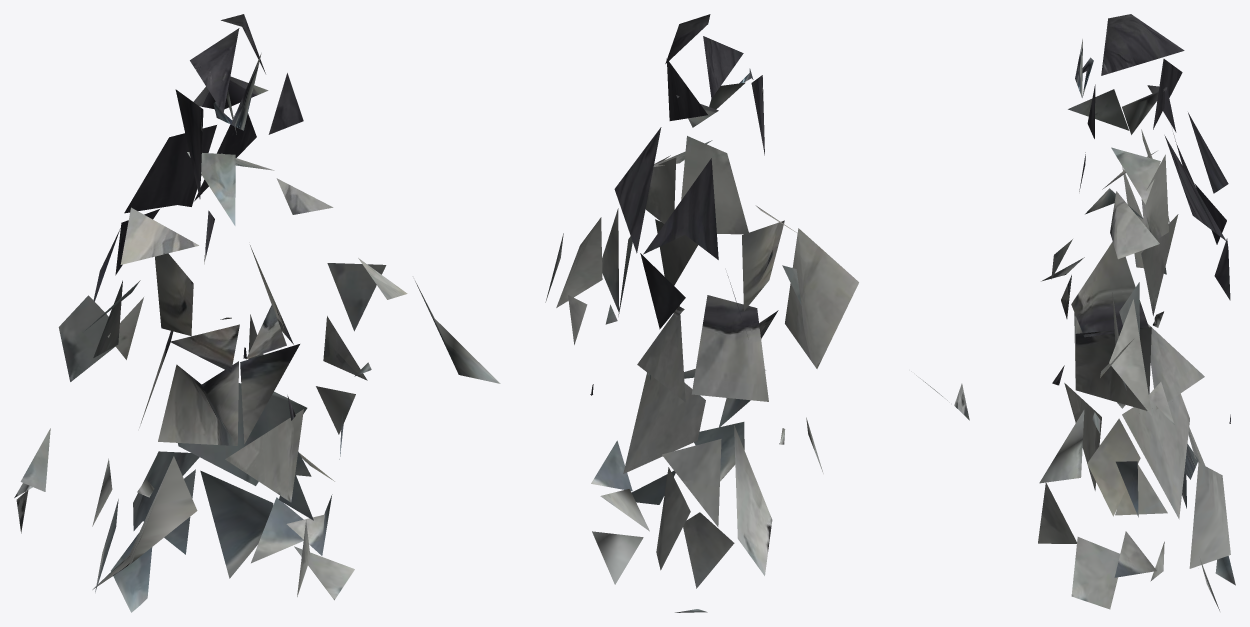
File: river-ghost-far-180-r1.glb
3 renders of one model, left to right at view 1: azimuth 30°, elevation 25°; view 2: azimuth 150°, elevation 25°; view 3: azimuth 270°, elevation 25°, orthographic. The views are drawn at different scales.
Visible parts, largest first — view 1: tripo_node_9c2501ef-6a1b-4561-b997-99fa7bf45798; view 2: tripo_node_9c2501ef-6a1b-4561-b997-99fa7bf45798; view 3: tripo_node_9c2501ef-6a1b-4561-b997-99fa7bf45798.
Boxes of the visible parts, box(x1,y1,x2,y2) form: tripo_node_9c2501ef-6a1b-4561-b997-99fa7bf45798: box(14, 14, 500, 612); tripo_node_9c2501ef-6a1b-4561-b997-99fa7bf45798: box(545, 14, 969, 612); tripo_node_9c2501ef-6a1b-4561-b997-99fa7bf45798: box(1038, 14, 1235, 610).
Size of the model in its own units: 0.6113 by 0.7515 by 0.2794.
1 material, 1 textured.
